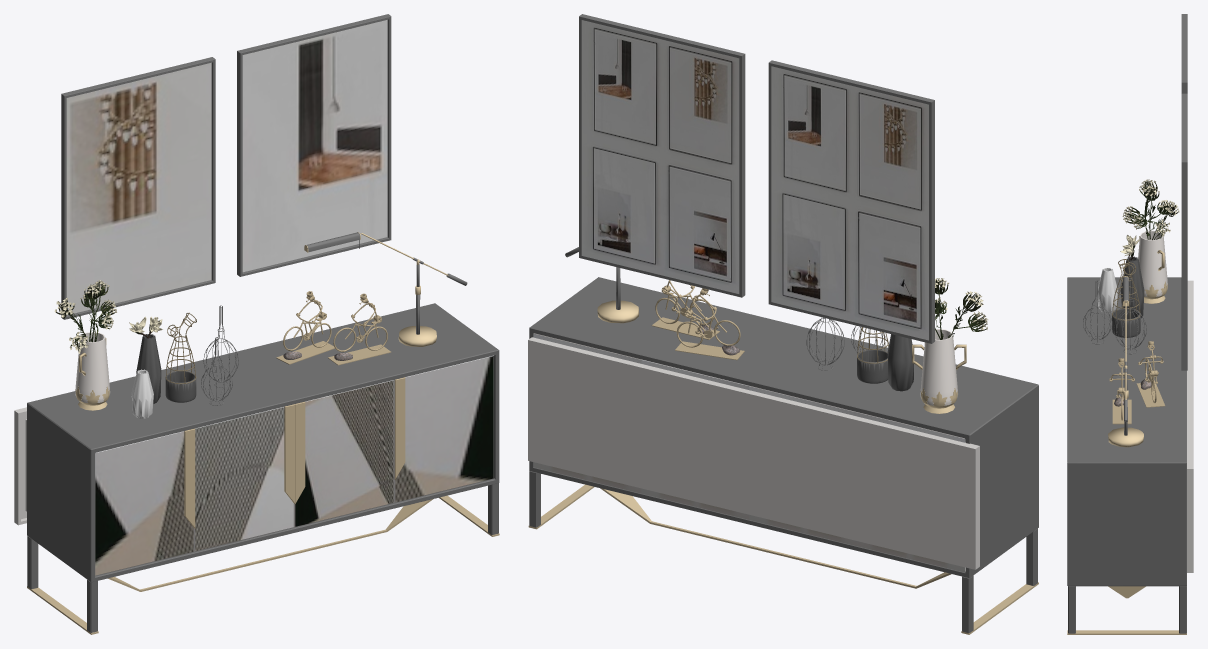
The model's file is tvshelf_003.glb.
3 renders of one model, left to right at view 1: azimuth 30°, elevation 25°; view 2: azimuth 150°, elevation 25°; view 3: azimuth 270°, elevation 25°, orthographic. The views are drawn at different scales.
Visible parts, largest first — view 1: Material2 (×17); view 2: Material2 (×14); view 3: Material2 (×16).
Part boxes in pixels (x1,y1,x2,y2): Material2 (×17): (14,14,499,634); Material2 (×14): (528,14,1038,634); Material2 (×16): (1067,14,1193,634).
Bounding box in the file's own units: 58.35 × 64.79 × 16.44.
Materials: 24 (9 with a texture image).
